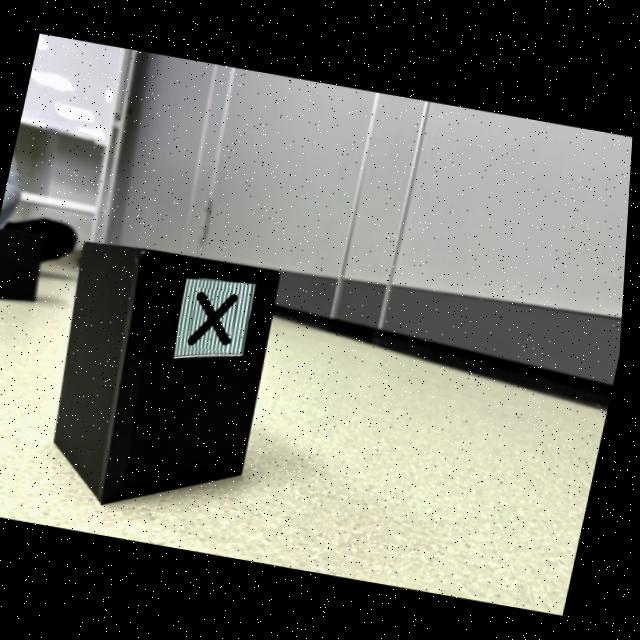X: (191, 291, 242, 346)
